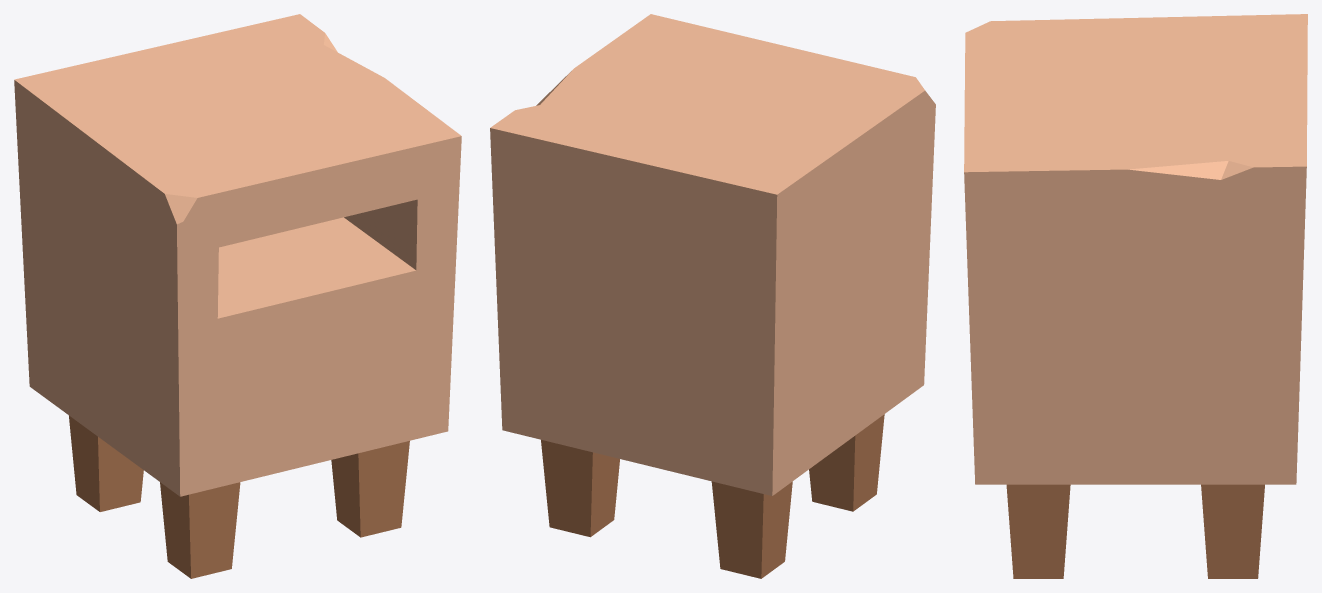
File: drawer_weaponholder.fbx
3 renders of one model, left to right at view 1: azimuth 30°, elevation 25°; view 2: azimuth 150°, elevation 25°; view 3: azimuth 270°, elevation 25°, orthographic. The views are drawn at different scales.
Visible parts, largest first — view 1: Cube.049; view 2: Cube.049; view 3: Cube.049.
Boxes of the visible parts, x1=… form: Cube.049: x1=14, y1=14, x2=461, y2=578; Cube.049: x1=490, y1=14, x2=935, y2=578; Cube.049: x1=964, y1=14, x2=1307, y2=578.
Bounding box in the file's own units: 139 × 188 × 135.
